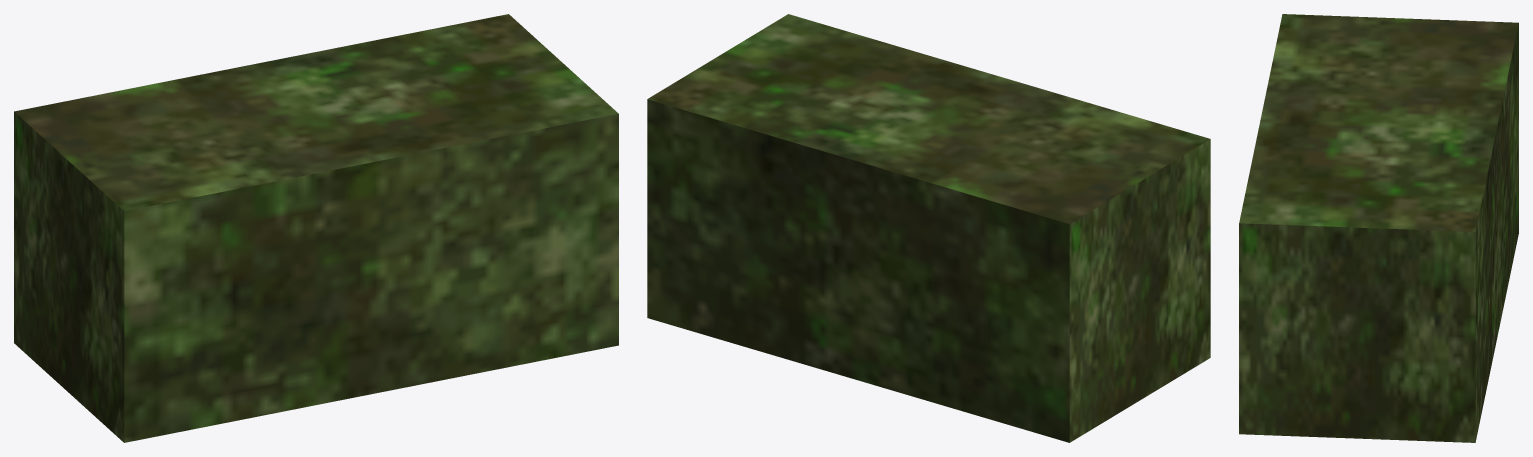
File: OVERHILL_A_01_SMALL_BLOCK_04.fbx
3 renders of one model, left to right at view 1: azimuth 30°, elevation 25°; view 2: azimuth 150°, elevation 25°; view 3: azimuth 270°, elevation 25°, orthographic. The views are drawn at different scales.
Visible parts, largest first — view 1: OVERHILL_A_01_SMALL_BLOCK_04; view 2: OVERHILL_A_01_SMALL_BLOCK_04; view 3: OVERHILL_A_01_SMALL_BLOCK_04.
Boxes of the visible parts, x1,y1,x2,y2 form: OVERHILL_A_01_SMALL_BLOCK_04: [14, 14, 618, 442]; OVERHILL_A_01_SMALL_BLOCK_04: [647, 14, 1210, 442]; OVERHILL_A_01_SMALL_BLOCK_04: [1239, 14, 1518, 442].
Size of the model in its own units: 17202 by 7762 by 9327.
Materials: 1 (1 with a texture image).
